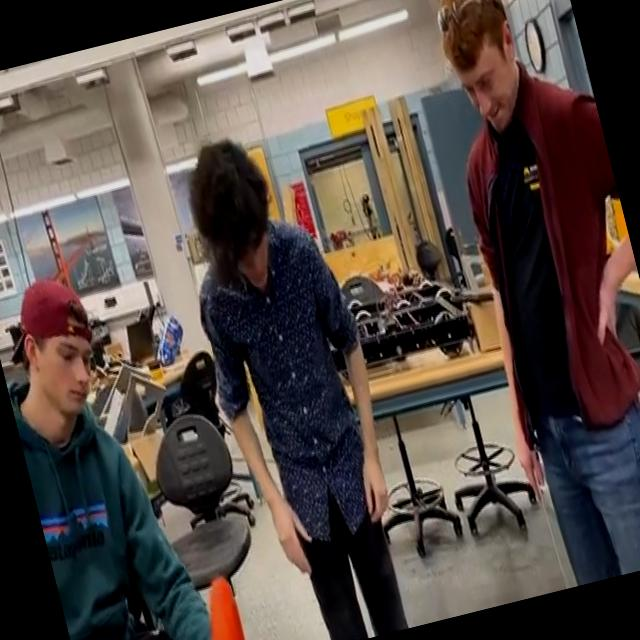note: (188, 568, 257, 640)
